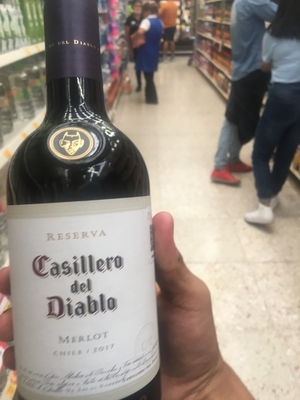casillero del diablo merlot: (3, 16, 161, 400)
